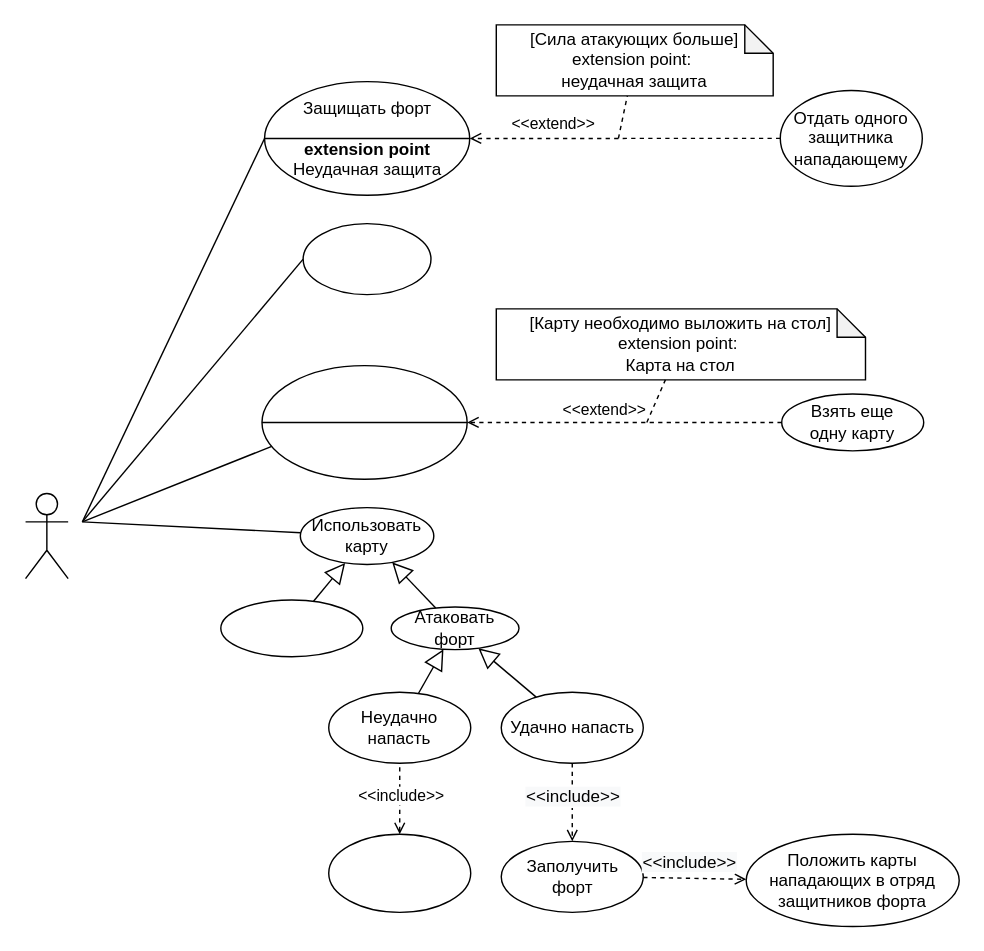
Image size: 984x951. Some labels were removed from this diagram. Here are the shapes that lost their labels. From the top down, the box of each, then its label:
(302, 222, 431, 295): Отключиться от игры
(261, 364, 467, 479): Взять карту extension point Карта на стол
(24, 492, 68, 579): Игрок
(219, 599, 363, 657): Применить особую карту
(327, 833, 471, 912): Посмотреть защитников форта
